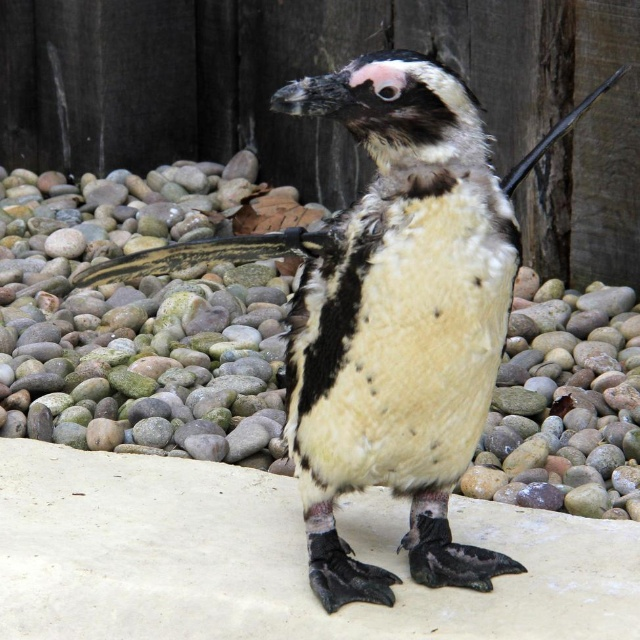Penguin: (69, 49, 640, 613)
